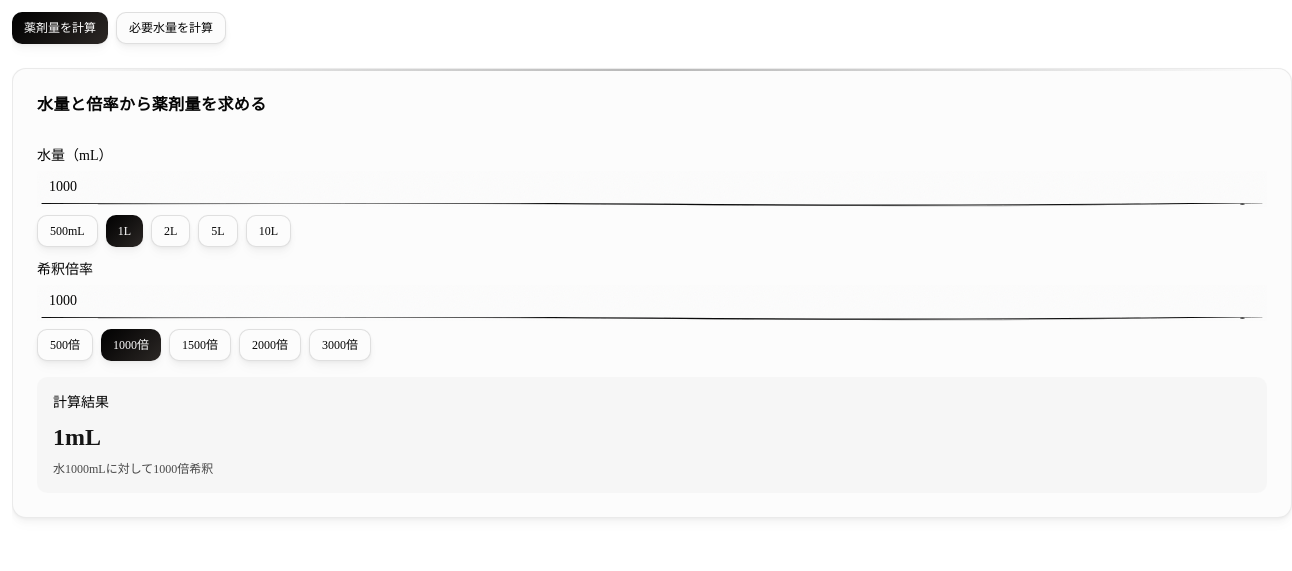
Scenario: DilutionCalculator › 通常モード（水量＋倍率から薬剤量を求める） › 水量を 100mL・倍率 3000 にすると 0.03mL（<0.1mL）で警告バッジが表示される
Replace the text in the number field labelled "水量（mL）" with "100" at (652, 189), box [37,171,1267,207]
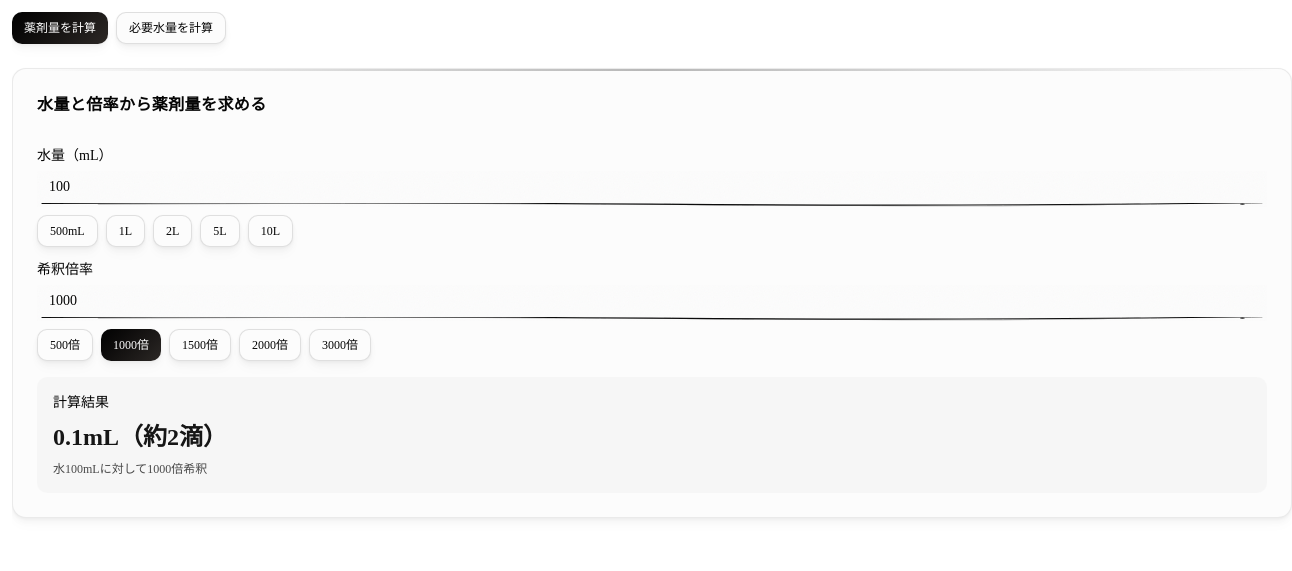
Replace the text in the number field labelled "希釈倍率" with "3000" at (652, 303), box [37,285,1267,321]
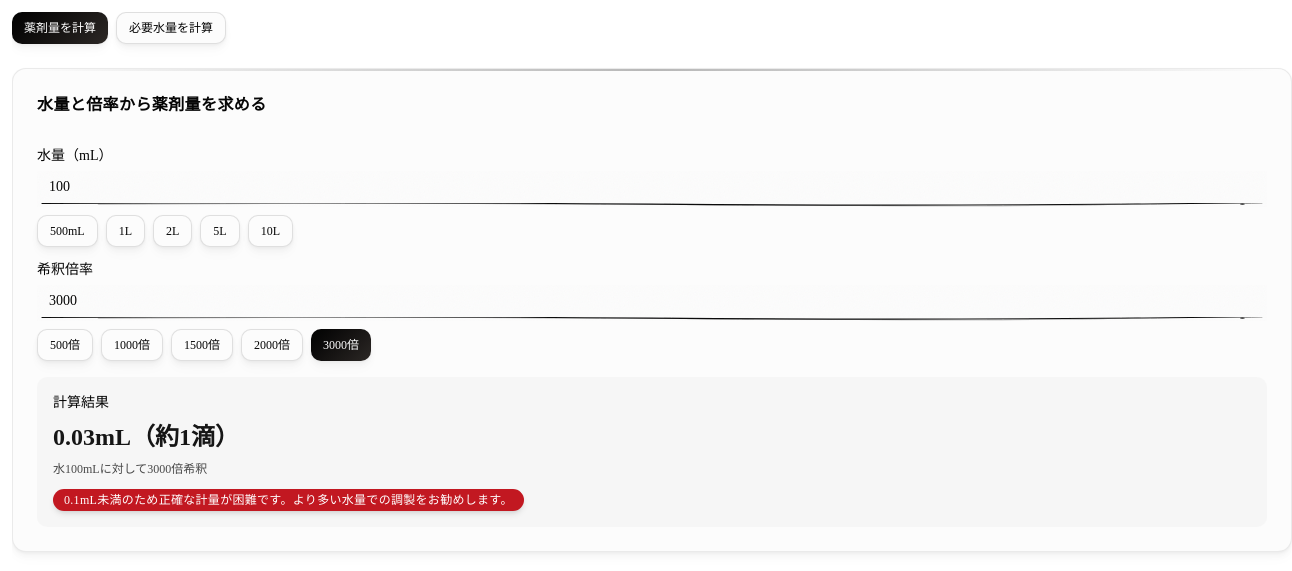
Result: the text "0.03mL（約1滴）" is shown at [53,424,239,450]
Result: the text "0.1mL未満のため正確な計量が困難です。より多い水量での調製をお勧めします。" is shown at [53,489,524,511]
